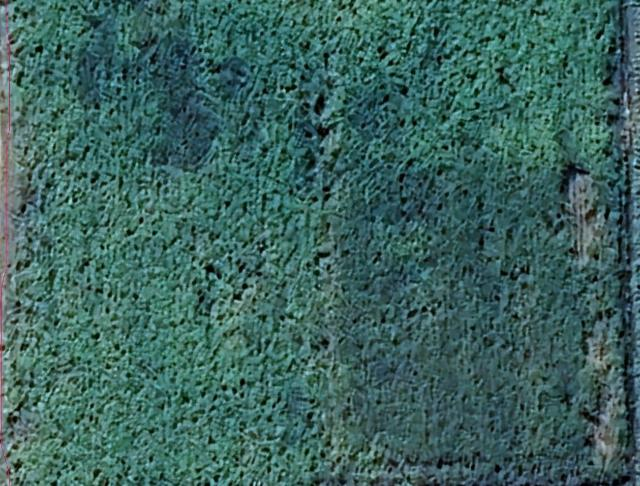Farms: (4, 1, 632, 486)
